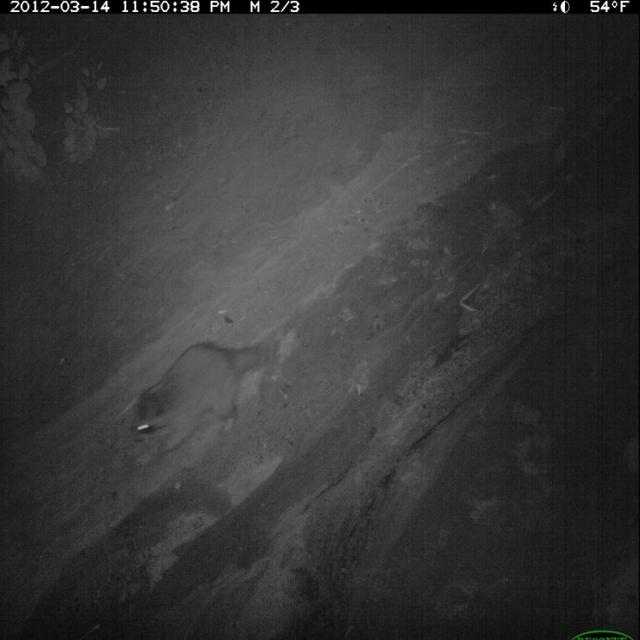raccoon: (126, 329, 287, 473)
